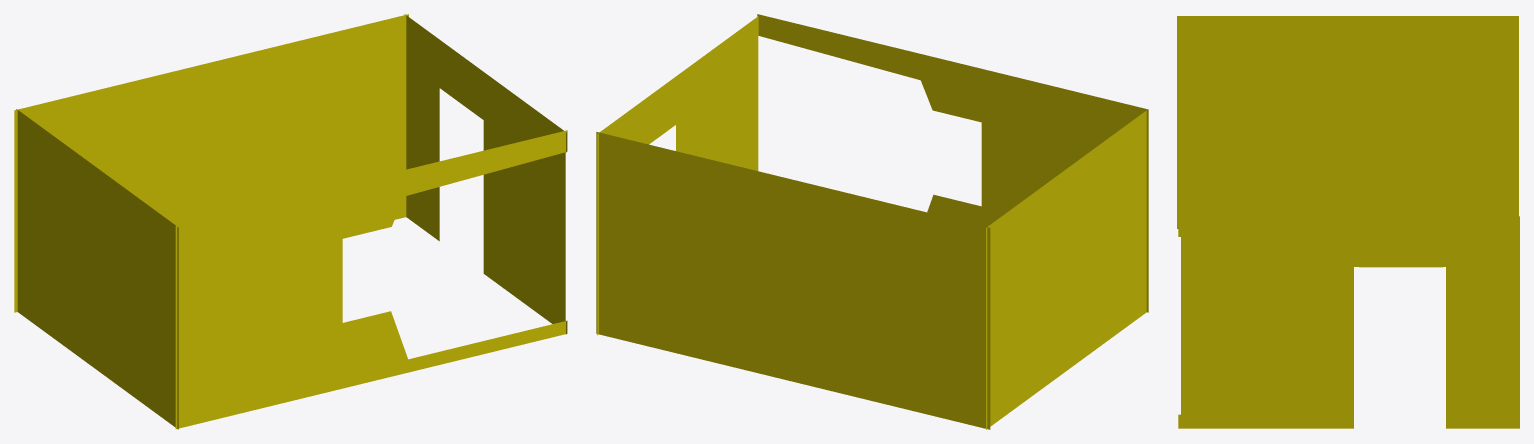
File: BH05B_WP_01_Break.fbx
3 renders of one model, left to right at view 1: azimuth 30°, elevation 25°; view 2: azimuth 150°, elevation 25°; view 3: azimuth 270°, elevation 25°, orthographic. The views are drawn at different scales.
Visible parts, largest first — view 1: BH05B_WP_01_Break; view 2: BH05B_WP_01_Break; view 3: BH05B_WP_01_Break.
Boxes of the visible parts, x1,y1,x2,y2 form: BH05B_WP_01_Break: [14, 14, 567, 429]; BH05B_WP_01_Break: [596, 14, 1148, 429]; BH05B_WP_01_Break: [1177, 16, 1519, 428].
Size of the model in its own units: 599 by 295 by 429.
